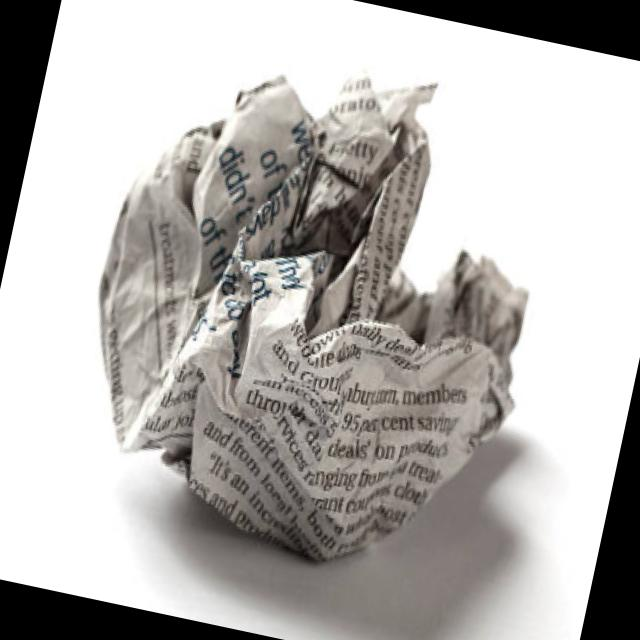Koran: (50, 18, 577, 596)
